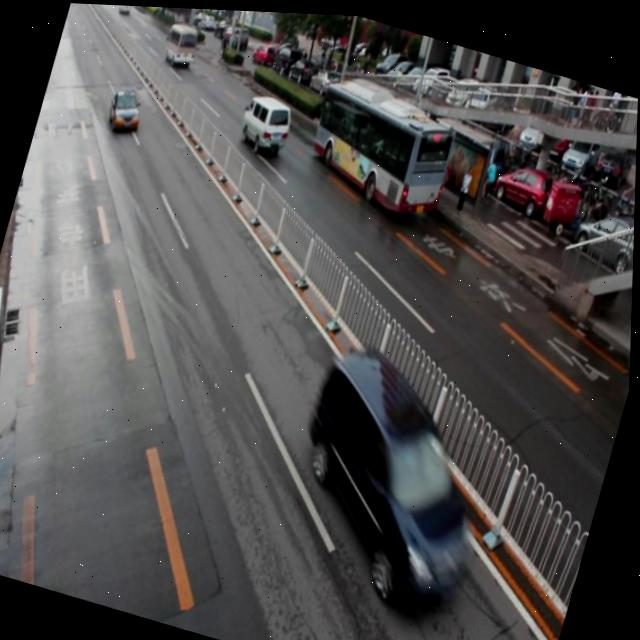car: (103, 84, 148, 138)
truck: (276, 334, 513, 606), (235, 86, 298, 156)
van: (299, 78, 459, 215)
